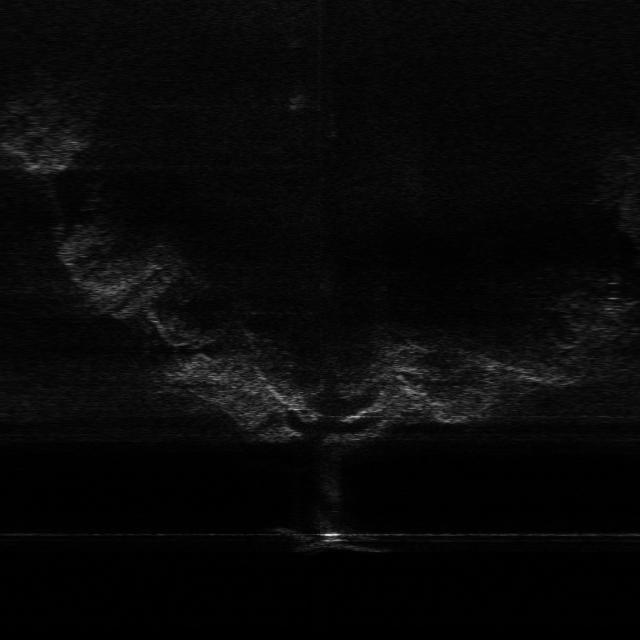plane: (274, 519, 394, 554)
